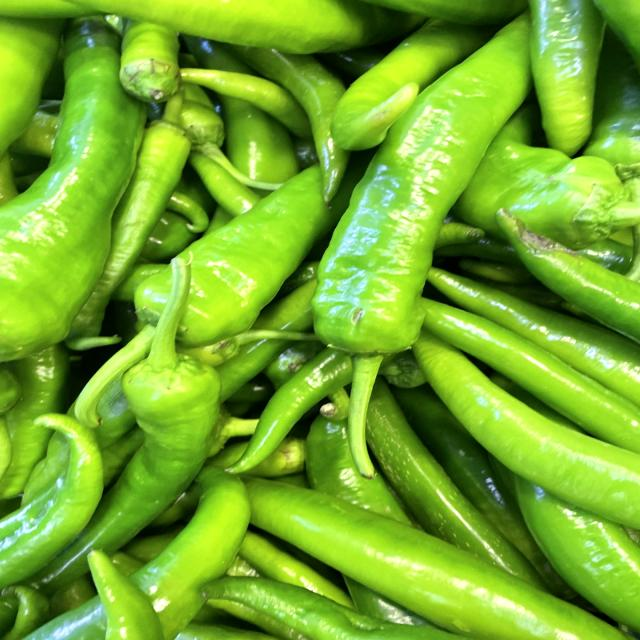green pepper: (289, 12, 580, 474)
